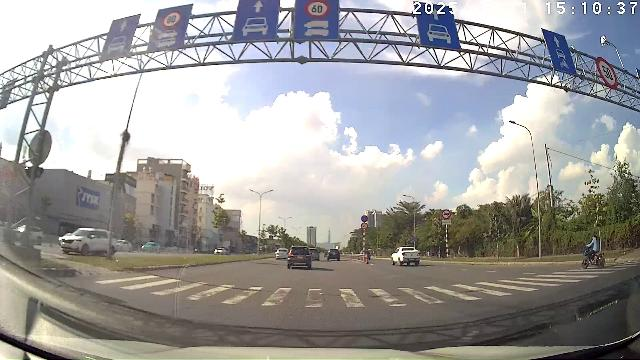127-toc-do-toi-da-50: (594, 57, 618, 89)
127-toc-do-toi-da-60: (305, 0, 331, 18)
127-toc-do-toi-da-80: (162, 10, 182, 28)
